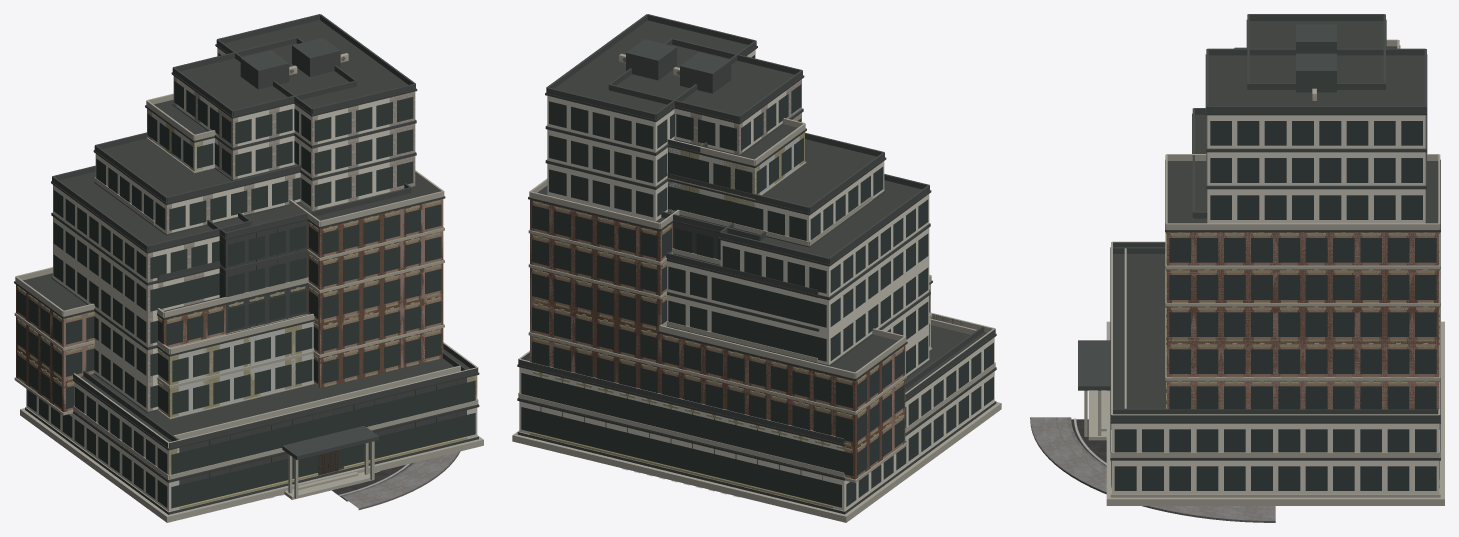
Rendered from offices.glb.
3 views of the same model, side by side, from view 1: azimuth 30°, elevation 25°; view 2: azimuth 150°, elevation 25°; view 3: azimuth 270°, elevation 25° (orthographic). The views are drawn at different scales.
Parts seen in each view (by area): view 1: Office_2_far, Office_3_far, Office_1_far, Office_5_far, Office_3_near, Office_4_far, Office_5_near, Office_2_near, Office_4_near, Office_0_near, Office_0_far, Street_Curve_4LaneShort.001 (+1 smaller); view 2: Office_2_far, Office_3_far, Office_5_far, Office_3_near, Office_2_near, Office_5_near, Office_4_far, Office_4_near, Office_1_far, Office_0_near, Office_1_near, Office_0_far; view 3: Office_3_far, Office_2_far, Office_3_near, Office_2_near, Office_5_far, Office_5_near, Street_Curve_4LaneShort.001, Office_1_near, Office_1_far, Office_4_near, Office_4_far, Office_0_near.
Part boxes in pixels (left/top/right/bottom): Office_2_far: left=20, top=14, right=483, bottom=516; Office_3_far: left=14, top=191, right=479, bottom=507; Office_1_far: left=176, top=187, right=472, bottom=514; Office_5_far: left=83, top=37, right=440, bottom=487; Office_3_near: left=14, top=170, right=479, bottom=522; Office_4_far: left=25, top=95, right=483, bottom=522; Office_5_near: left=93, top=38, right=468, bottom=512; Office_2_near: left=25, top=15, right=478, bottom=514; Office_4_near: left=73, top=93, right=483, bottom=522; Office_0_near: left=94, top=178, right=460, bottom=493; Office_0_far: left=95, top=177, right=460, bottom=492; Street_Curve_4LaneShort.001: left=332, top=451, right=460, bottom=509; Office_2_far: left=513, top=14, right=1001, bottom=516; Office_3_far: left=517, top=182, right=1001, bottom=521; Office_5_far: left=528, top=38, right=984, bottom=503; Office_3_near: left=517, top=178, right=1001, bottom=522; Office_2_near: left=512, top=15, right=996, bottom=522; Office_5_near: left=523, top=39, right=886, bottom=519; Office_4_far: left=518, top=119, right=995, bottom=511; Office_4_near: left=517, top=118, right=995, bottom=446; Office_1_far: left=523, top=139, right=836, bottom=513; Office_0_near: left=679, top=196, right=976, bottom=334; Office_1_near: left=540, top=143, right=984, bottom=479; Office_0_far: left=679, top=195, right=972, bottom=334; Office_3_far: left=1078, top=155, right=1440, bottom=497; Office_2_far: left=1101, top=48, right=1444, bottom=499; Office_3_near: left=1078, top=154, right=1440, bottom=497; Office_2_near: left=1101, top=49, right=1444, bottom=505; Office_5_far: left=1101, top=14, right=1440, bottom=428; Office_5_near: left=1101, top=19, right=1439, bottom=488; Street_Curve_4LaneShort.001: left=1030, top=417, right=1275, bottom=522; Office_1_near: left=1110, top=108, right=1440, bottom=479; Office_1_far: left=1106, top=109, right=1444, bottom=493; Office_4_near: left=1084, top=39, right=1440, bottom=436; Office_4_far: left=1110, top=40, right=1440, bottom=494; Office_0_near: left=1098, top=248, right=1126, bottom=435.
Bounding box in the file's own units: 34.12 × 32.6 × 30.4.
17 materials, 8 textured.
